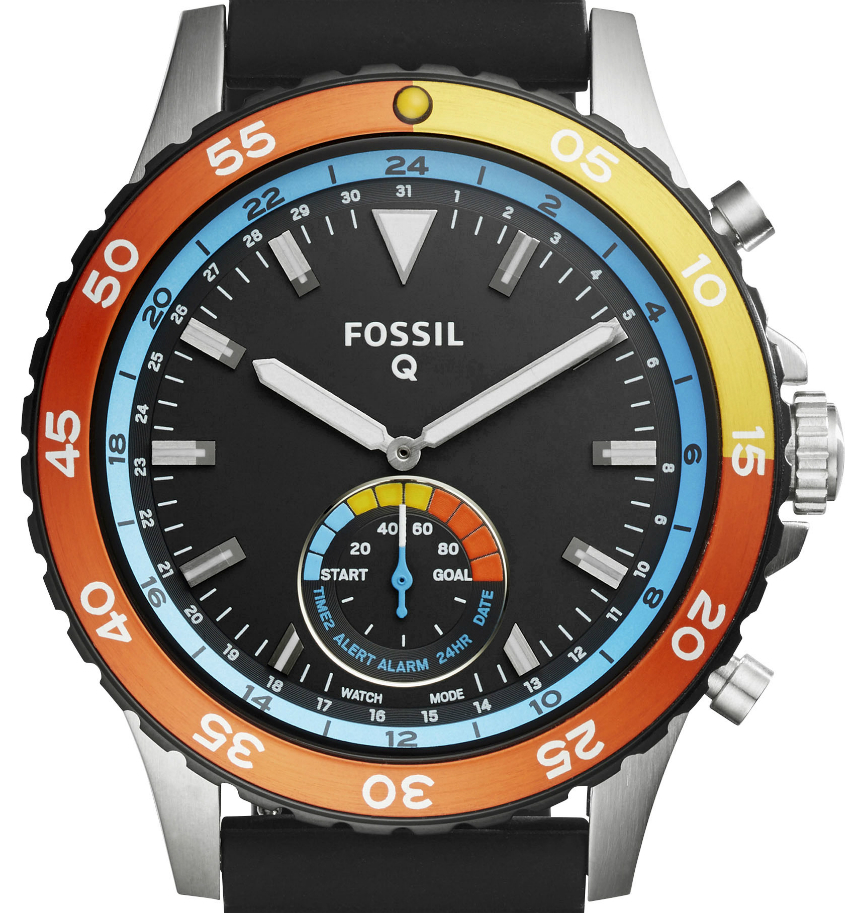clock: (21, 63, 800, 847)
